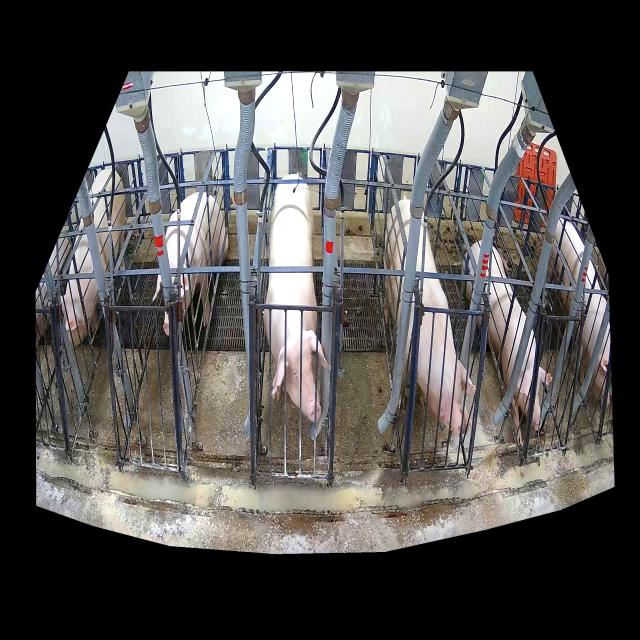pig: (383, 199, 475, 435), (462, 240, 553, 445), (264, 183, 330, 422), (547, 217, 610, 410), (60, 169, 126, 346), (152, 192, 228, 335)
